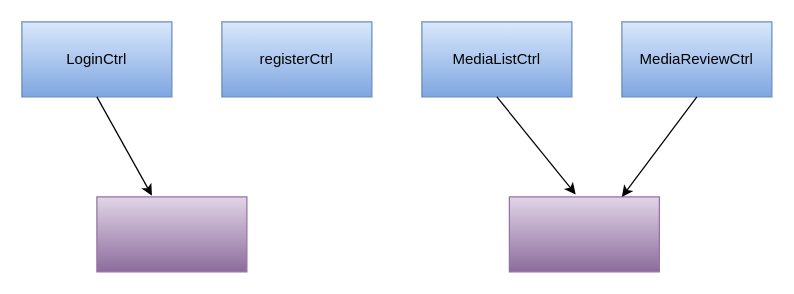
Image size: 794x294. Some labels were removed from this diagram. Here are the shapes that lost their labels. From the top down, the centre of each, then its label:
(171,234): AuthenticationService
(583,234): MediaService
